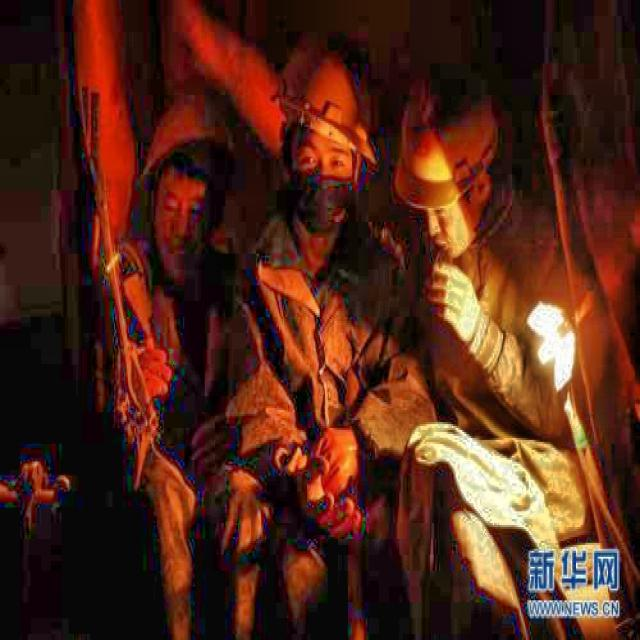helmet: (397, 79, 498, 254), (288, 52, 369, 264)
